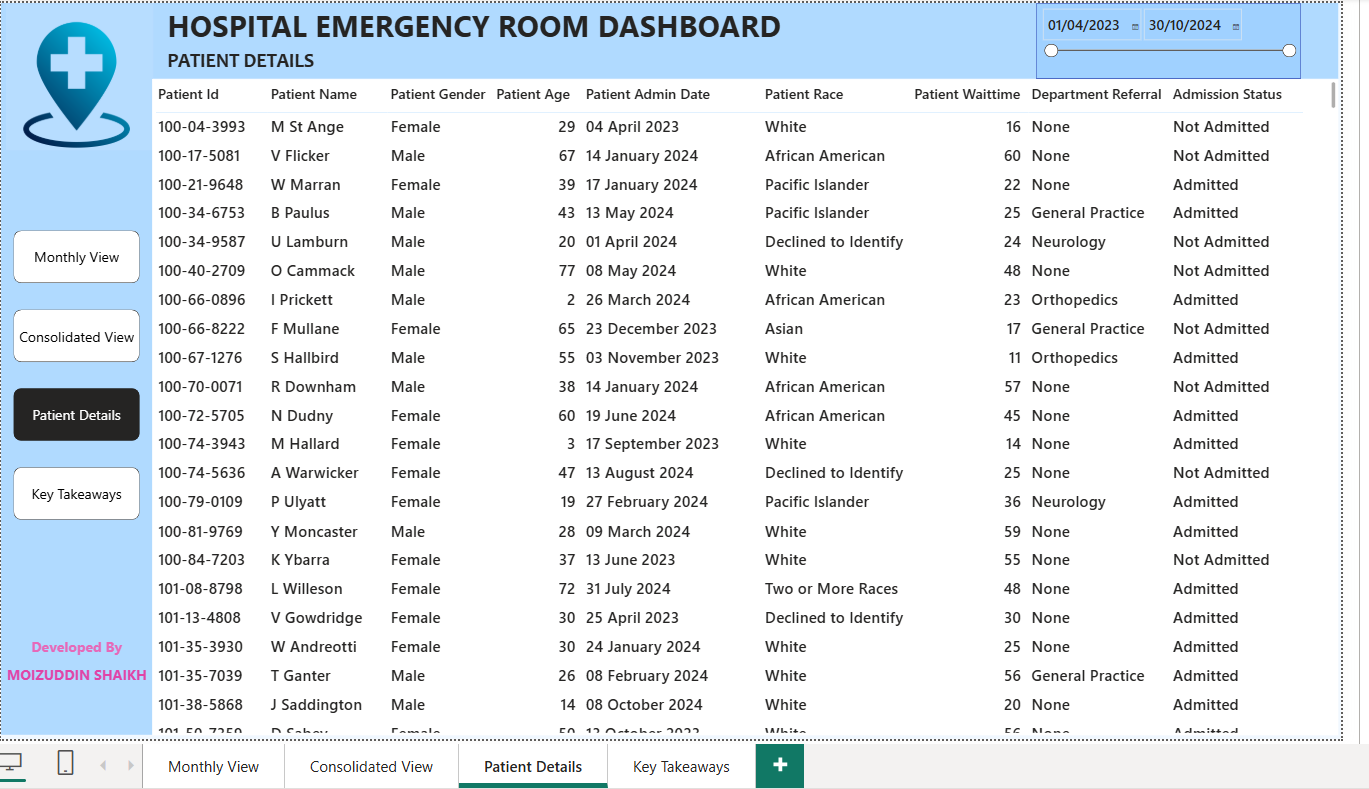

What the dashboard file says about the page in this screenshot:
{"tool":"powerbi","page":{"name":"Patient Details","canvas":[2550,1400],"ordinal":2},"visuals":[{"type":"textbox","box":[10,0,280,280],"z":0},{"type":"shape","box":[0,0,288,1392],"z":1000},{"type":"shape","box":[288,0,2256,144],"z":2000},{"type":"textbox","box":[312,0,1248,96],"z":3000},{"type":"textbox","box":[264,72,384,72],"z":4000},{"type":"slicer","fields":{"Values":["Date Table.Date"]},"box":[1968,0,504,144],"z":5000},{"type":"image","box":[24,24,240,264],"z":6000},{"type":"tableEx","fields":{"Values":["Hospital ER_Data.Patient Id","Hospital ER_Data.Patient Full Name","Hospital ER_Data.Patient Gender","Sum(Hospital ER_Data.Patient Age)","Hospital ER_Data.Patient Admin Date","Hospital ER_Data.Patient Race","Sum(Hospital ER_Data.Patient Waittime)","Hospital ER_Data.Department Referral","Hospital ER_Data.Admission Status"]},"box":[288,144,2256,1248],"z":7000},{"type":"pageNavigator","box":[24,432,240,552],"z":8000},{"type":"textbox","box":[0,1200,288,120],"z":9000}]}

Visuals, with their boxes on the page's 2550x1400 design canvas (x1, y1, x2, y2). These are canvas units, not pixel positions in the 1369x789 screenshot, which may show the page scaled, cropped or inside an application window:
textbox: bbox(10, 0, 290, 280)
shape: bbox(0, 0, 288, 1392)
shape: bbox(288, 0, 2544, 144)
textbox: bbox(312, 0, 1560, 96)
textbox: bbox(264, 72, 648, 144)
slicer - Date Table.Date: bbox(1968, 0, 2472, 144)
image: bbox(24, 24, 264, 288)
tableEx - Hospital ER_Data.Patient Id x Hospital ER_Data.Patient Full Name: bbox(288, 144, 2544, 1392)
pageNavigator: bbox(24, 432, 264, 984)
textbox: bbox(0, 1200, 288, 1320)
